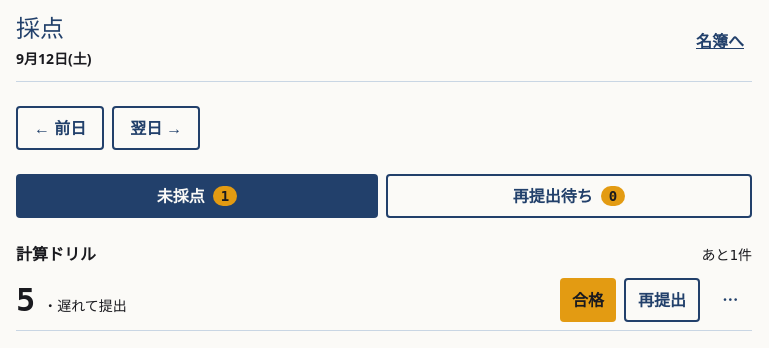
Test: 採点画面 › 合格にすると未採点セクションから消える
This screenshot has width=769, height=348.
Click the button with aria-label "8月24日(月)の5番（計算ドリル）を合格にする" at (588, 300), box 560,278 -> 616,322
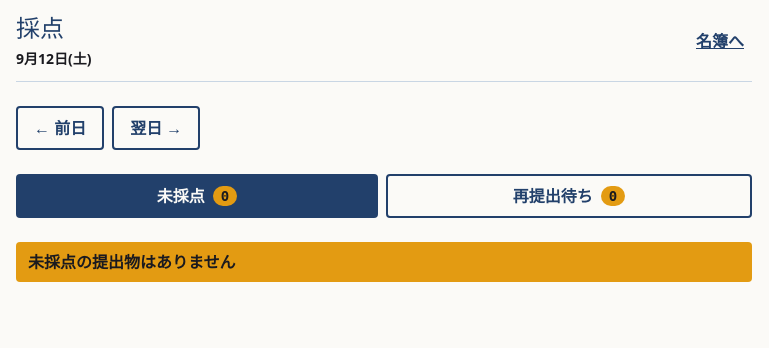
Now the text "未採点の提出物はありません" is shown, box 16,242 -> 752,282
